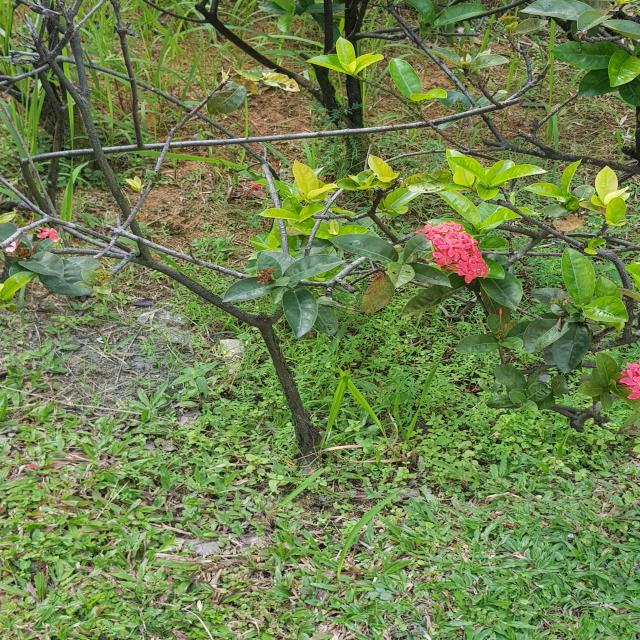Chinese-Ixora: (414, 219, 491, 284), (615, 362, 640, 401), (37, 225, 59, 242)
